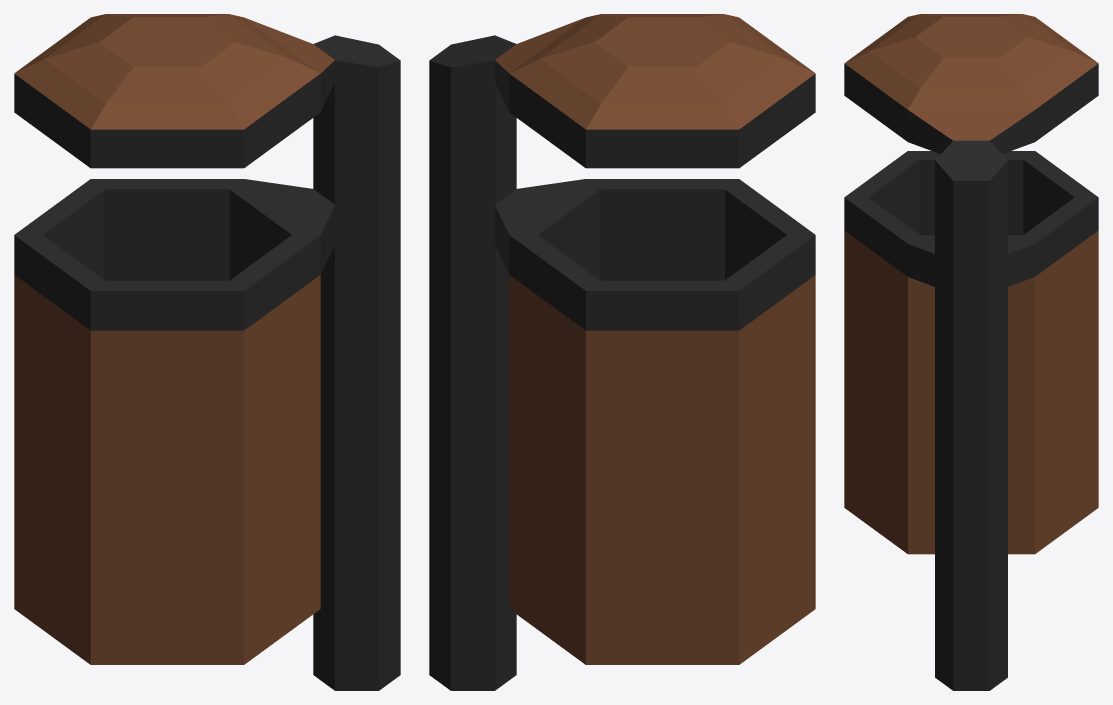
Rendered from Bin1.obj.
3 renders of one model, left to right at view 1: azimuth 30°, elevation 25°; view 2: azimuth 150°, elevation 25°; view 3: azimuth 270°, elevation 25°, orthographic. The views are drawn at different scales.
Parts seen in each view (by area): view 1: Kosz; view 2: Kosz; view 3: Kosz.
Part boxes in pixels (x1,y1,x2,y2): Kosz: [14, 14, 400, 690]; Kosz: [429, 14, 815, 690]; Kosz: [844, 14, 1098, 690].
Bounding box in the file's own units: 1.07 × 2.05 × 0.84.
